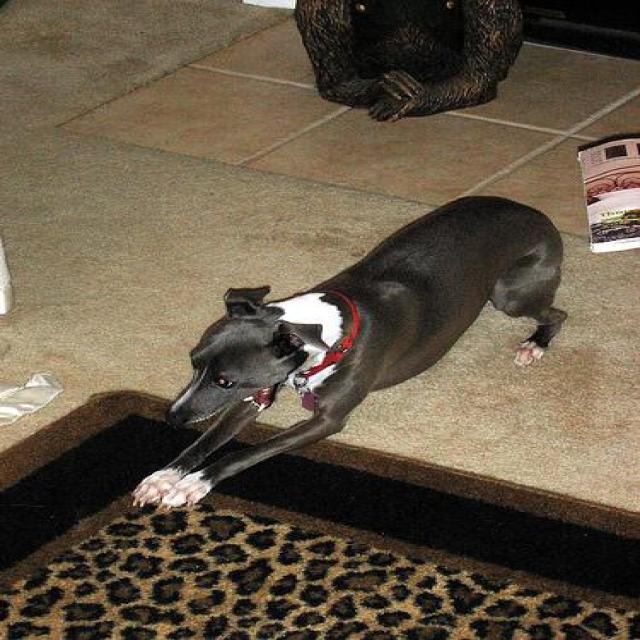relax: (93, 150, 594, 531)
